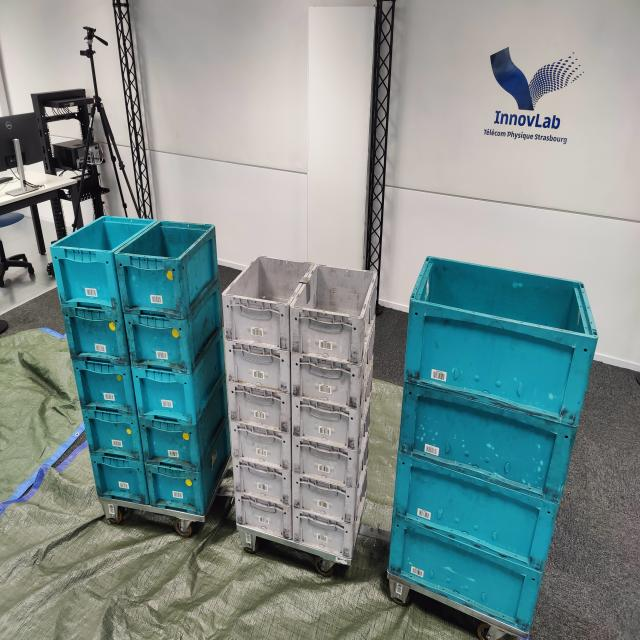Box8G: (290, 262, 380, 367), (222, 256, 308, 353), (290, 322, 378, 416), (292, 364, 376, 452), (293, 437, 372, 527), (294, 470, 370, 560), (293, 406, 375, 488), (222, 339, 293, 398), (223, 379, 293, 435), (229, 454, 291, 508), (232, 492, 293, 544), (227, 425, 291, 471)
BoxB4: (400, 254, 599, 429), (397, 381, 581, 506), (389, 446, 562, 574), (384, 514, 546, 639)
BoxB8: (114, 220, 216, 320), (124, 276, 224, 378), (46, 215, 152, 309), (133, 333, 229, 426), (148, 423, 227, 522), (142, 384, 226, 474), (77, 406, 144, 467), (86, 455, 150, 514), (63, 306, 129, 362), (71, 364, 136, 415)
